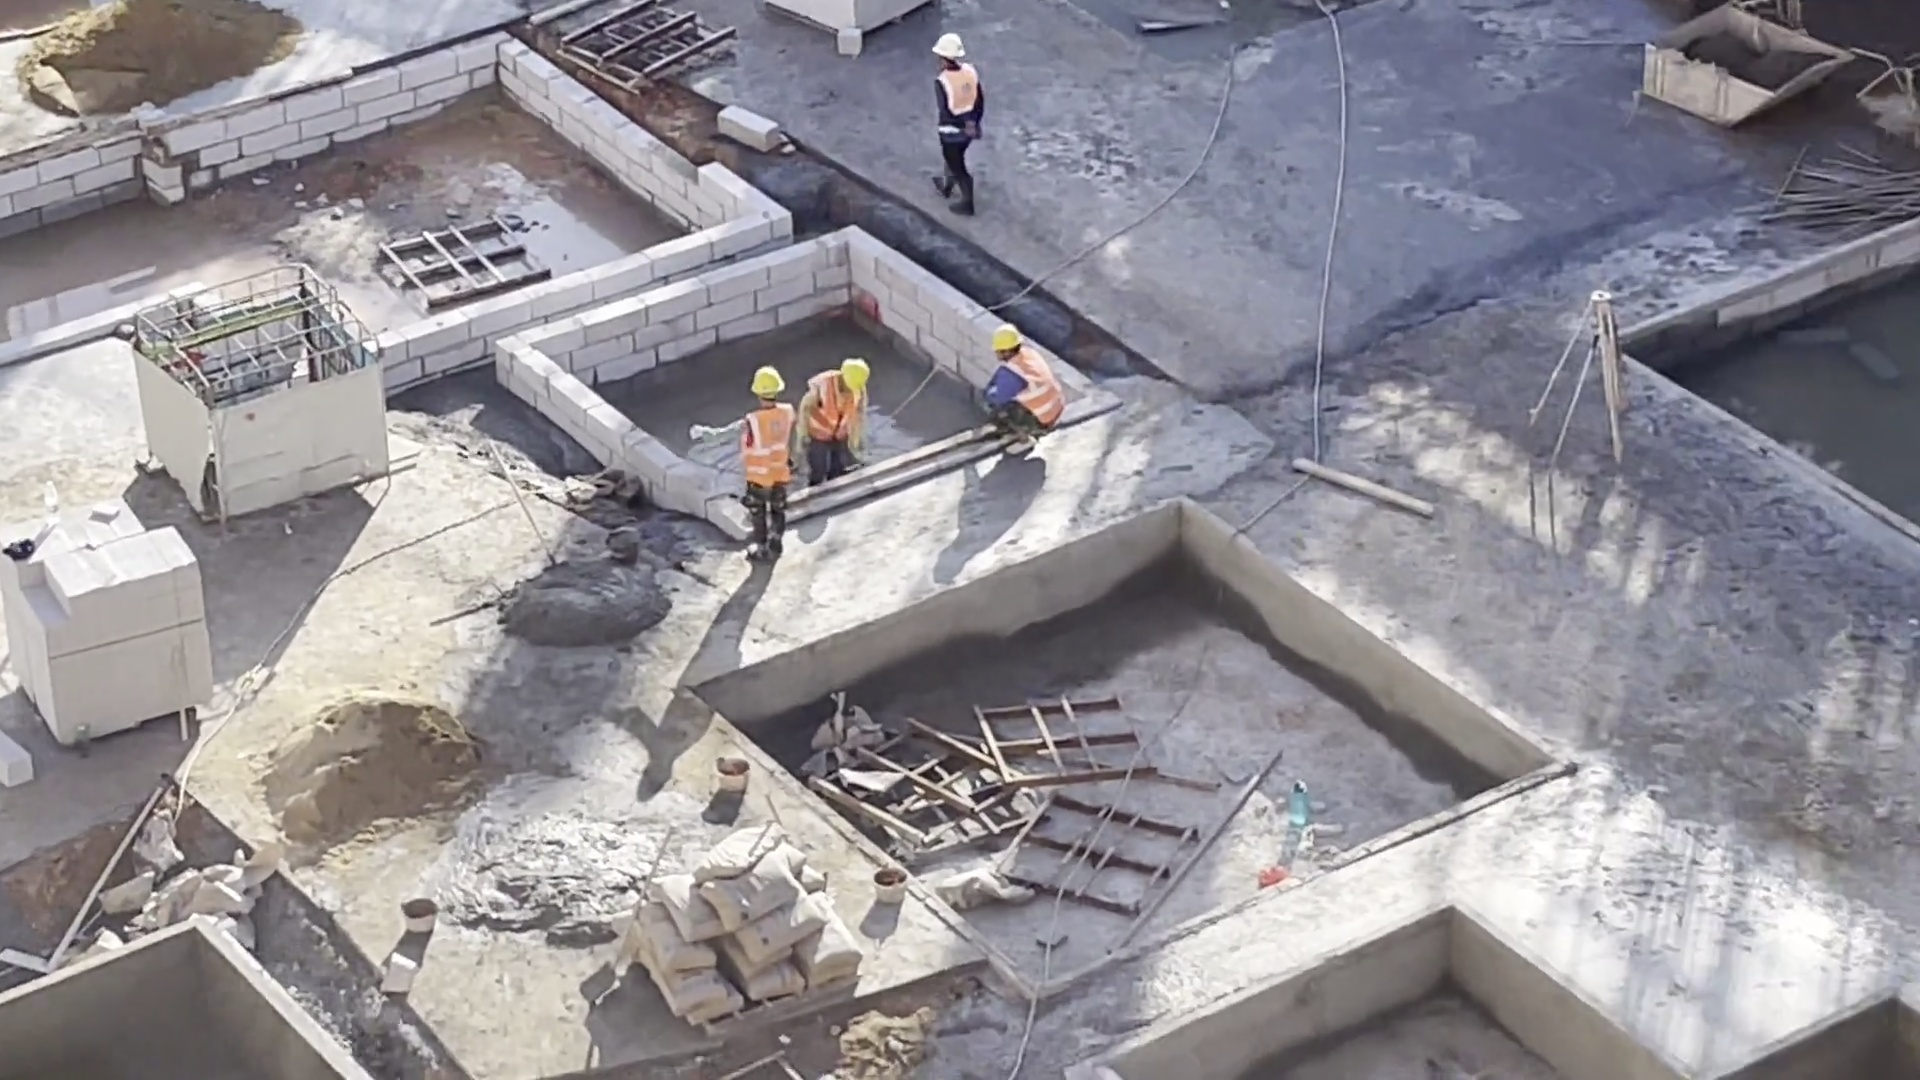brick: (12, 505, 230, 749)
helmet: (757, 355, 790, 405), (841, 352, 870, 393), (937, 27, 970, 61), (985, 320, 1019, 349)
person: (703, 363, 804, 526), (967, 315, 1070, 469), (774, 350, 886, 489), (926, 27, 992, 209)
vest: (801, 372, 864, 455), (1005, 355, 1072, 424), (746, 405, 800, 490), (945, 74, 985, 135)
